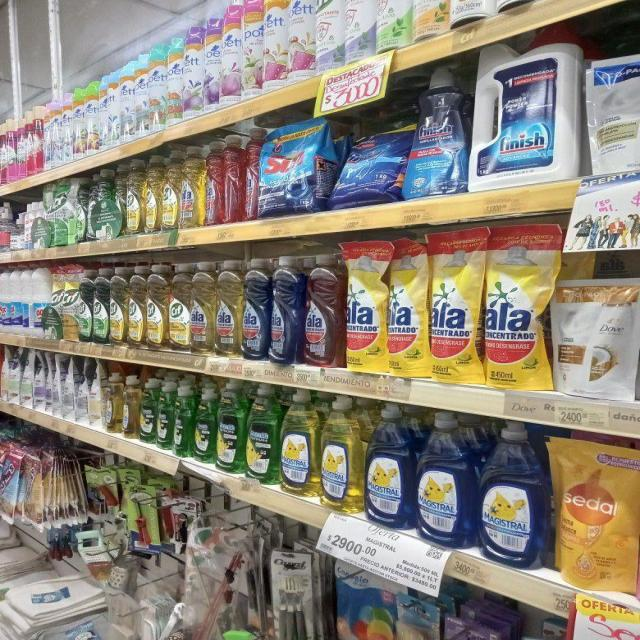ala_conc_amarillo: (216, 259, 242, 358), (190, 260, 215, 356), (180, 145, 204, 228)
ala_conc_azul: (270, 256, 304, 364), (242, 258, 270, 361)
ala_conc_rojo: (304, 253, 344, 368), (205, 140, 224, 226), (224, 134, 242, 223)
ala_sachet_amarillo: (484, 220, 551, 390), (430, 228, 482, 384), (388, 237, 428, 378), (346, 241, 386, 374)
cif_conc_bot_amarilla: (168, 262, 190, 353), (146, 262, 167, 350), (161, 150, 180, 230), (124, 158, 142, 235), (128, 264, 144, 348), (110, 264, 126, 346), (144, 154, 160, 232)
cif_conc_botella_verde: (92, 266, 109, 344), (78, 266, 92, 343)
cif_conc_sachet_amarillo: (413, 0, 449, 41), (62, 264, 79, 342)
magistral_con_amarillo: (320, 396, 362, 512), (281, 389, 318, 498), (122, 375, 139, 439)
magistral_con_azul: (478, 420, 546, 568), (416, 411, 473, 547), (365, 403, 413, 529), (334, 555, 395, 640)
